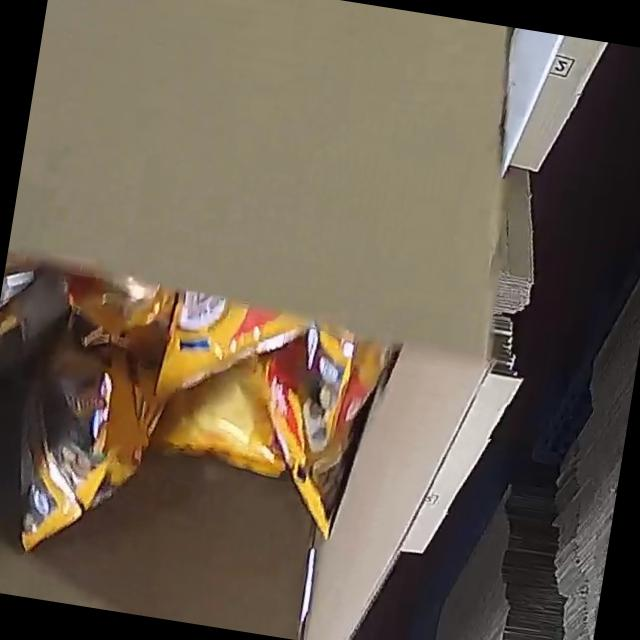cheese: (0, 257, 394, 606)
